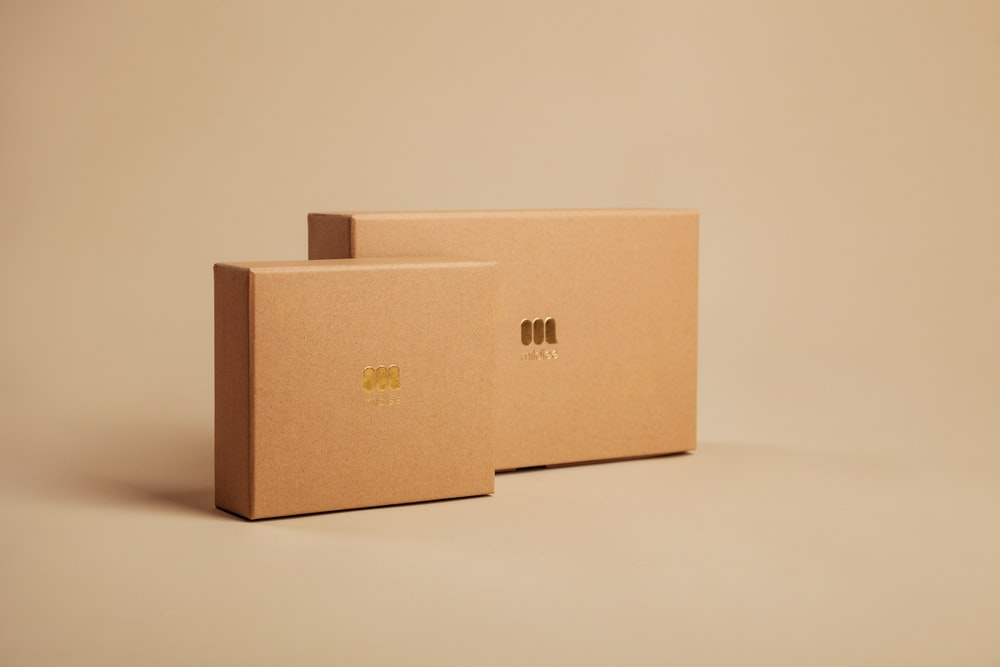box: (305, 211, 693, 461), (209, 259, 496, 509)
